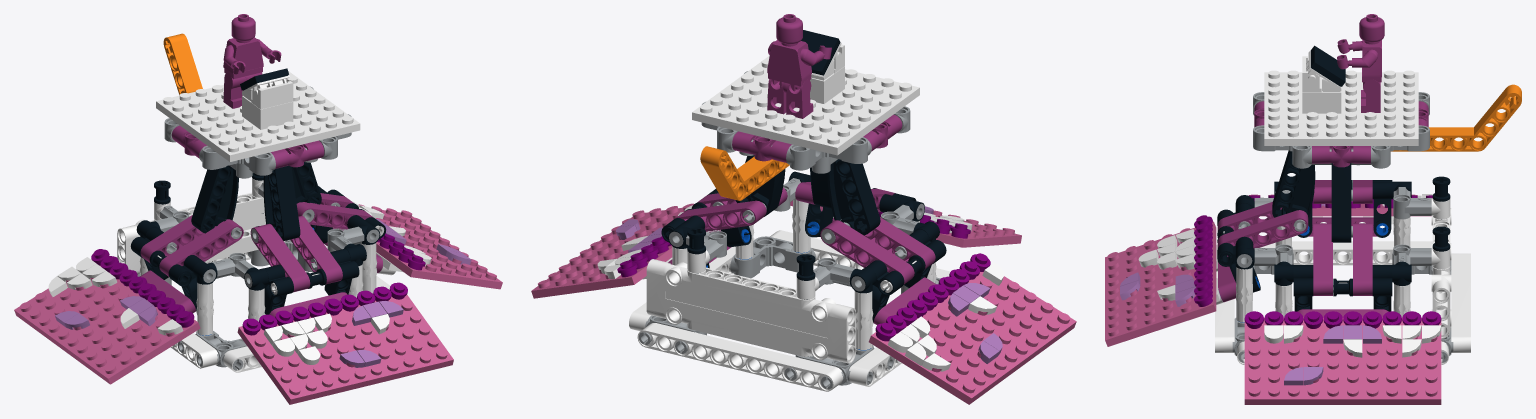
The picture shows the model from 3 angles, left to right: view 1: azimuth 30°, elevation 25°; view 2: azimuth 150°, elevation 25°; view 3: azimuth 270°, elevation 25°; orthographic projection. The views are drawn at different scales.
Visible parts, largest first — view 1: Inner-Node-fullimmersion_dot_io-123.001, Inner-Node-fullimmersion_dot_io-64.001, Inner-Node-fullimmersion_dot_io-180.001, Inner-Node-fullimmersion_dot_io-51.001, Inner-Node-fullimmersion_dot_io-11.001, Inner-Node-fullimmersion_dot_io-157.001, Inner-Node-fullimmersion_dot_io-161.001, Inner-Node-fullimmersion_dot_io-58.001, Inner-Node-fullimmersion_dot_io-114.001, Inner-Node-fullimmersion_dot_io-150.001, Inner-Node-fullimmersion_dot_io-117.001, Inner-Node-fullimmersion_dot_io-42.001 (+26 smaller); view 2: Inner-Node-fullimmersion_dot_io-11.001, Inner-Node-fullimmersion_dot_io-64.001, Inner-Node-fullimmersion_dot_io-180.001, Inner-Node-fullimmersion_dot_io-0.001, Inner-Node-fullimmersion_dot_io-51.001, Inner-Node-fullimmersion_dot_io-157.001, Inner-Node-fullimmersion_dot_io-150.001, Inner-Node-fullimmersion_dot_io-55.001, Inner-Node-fullimmersion_dot_io-6.001, Inner-Node-fullimmersion_dot_io-45.001, Inner-Node-fullimmersion_dot_io-123.001, Inner-Node-fullimmersion_dot_io-177.001 (+26 smaller); view 3: Inner-Node-fullimmersion_dot_io-51.001, Inner-Node-fullimmersion_dot_io-180.001, Inner-Node-fullimmersion_dot_io-123.001, Inner-Node-fullimmersion_dot_io-150.001, Inner-Node-fullimmersion_dot_io-0.001, Inner-Node-fullimmersion_dot_io-161.001, Inner-Node-fullimmersion_dot_io-117.001, Inner-Node-fullimmersion_dot_io-3.001, Inner-Node-fullimmersion_dot_io-156.001, Inner-Node-fullimmersion_dot_io-11.001, Inner-Node-fullimmersion_dot_io-45.001, Inner-Node-fullimmersion_dot_io-42.001 (+32 smaller).
Part boxes in pixels (box(x1,y1,x2,y2)): Inner-Node-fullimmersion_dot_io-123.001: box(237, 295, 453, 404); Inner-Node-fullimmersion_dot_io-64.001: box(14, 265, 200, 384); Inner-Node-fullimmersion_dot_io-180.001: box(156, 69, 360, 161); Inner-Node-fullimmersion_dot_io-51.001: box(345, 204, 502, 289); Inner-Node-fullimmersion_dot_io-11.001: box(117, 192, 285, 274); Inner-Node-fullimmersion_dot_io-157.001: box(191, 165, 238, 233); Inner-Node-fullimmersion_dot_io-161.001: box(263, 165, 300, 240); Inner-Node-fullimmersion_dot_io-58.001: box(159, 219, 243, 276); Inner-Node-fullimmersion_dot_io-114.001: box(250, 223, 310, 292); Inner-Node-fullimmersion_dot_io-150.001: box(163, 33, 202, 95); Inner-Node-fullimmersion_dot_io-117.001: box(290, 216, 342, 284); Inner-Node-fullimmersion_dot_io-42.001: box(296, 202, 373, 229); Inner-Node-fullimmersion_dot_io-11.001: box(646, 259, 856, 363); Inner-Node-fullimmersion_dot_io-64.001: box(868, 272, 1076, 404); Inner-Node-fullimmersion_dot_io-180.001: box(692, 56, 919, 155); Inner-Node-fullimmersion_dot_io-0.001: box(637, 323, 842, 391); Inner-Node-fullimmersion_dot_io-51.001: box(531, 203, 706, 298); Inner-Node-fullimmersion_dot_io-157.001: box(827, 159, 880, 235); Inner-Node-fullimmersion_dot_io-150.001: box(700, 146, 789, 200); Inner-Node-fullimmersion_dot_io-55.001: box(820, 220, 914, 284); Inner-Node-fullimmersion_dot_io-6.001: box(730, 236, 815, 278); Inner-Node-fullimmersion_dot_io-45.001: box(675, 200, 766, 231); Inner-Node-fullimmersion_dot_io-123.001: box(790, 200, 1021, 247); Inner-Node-fullimmersion_dot_io-177.001: box(771, 137, 871, 170); Inner-Node-fullimmersion_dot_io-51.001: box(1244, 317, 1441, 404); Inner-Node-fullimmersion_dot_io-180.001: box(1264, 70, 1418, 145); Inner-Node-fullimmersion_dot_io-123.001: box(1105, 221, 1216, 346); Inner-Node-fullimmersion_dot_io-150.001: box(1391, 84, 1521, 151); Inner-Node-fullimmersion_dot_io-0.001: box(1451, 253, 1470, 352); Inner-Node-fullimmersion_dot_io-161.001: box(1272, 150, 1315, 219); Inner-Node-fullimmersion_dot_io-117.001: box(1217, 210, 1308, 256); Inner-Node-fullimmersion_dot_io-3.001: box(1260, 241, 1432, 265); Inner-Node-fullimmersion_dot_io-156.001: box(1331, 163, 1351, 242); Inner-Node-fullimmersion_dot_io-11.001: box(1431, 208, 1451, 338); Inner-Node-fullimmersion_dot_io-45.001: box(1353, 223, 1372, 295); Inner-Node-fullimmersion_dot_io-42.001: box(1313, 223, 1332, 295).
Bounding box in the file's own units: 19.33 × 13.23 × 16.93.
